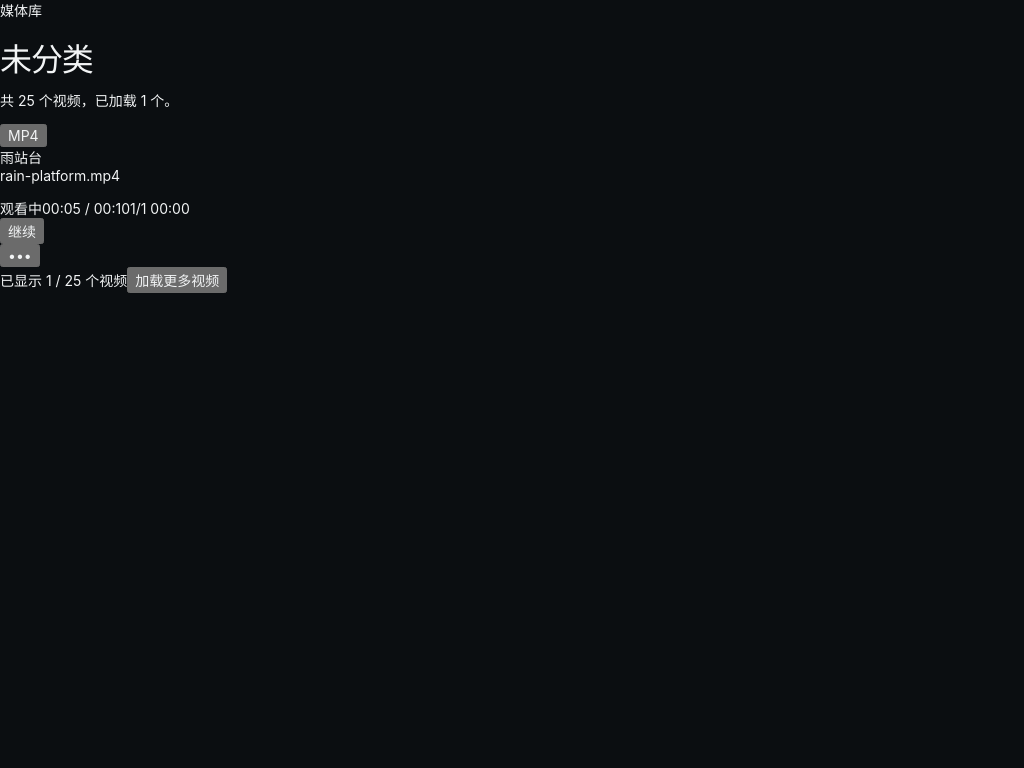
it: LibraryMediaListView › keeps classification menus bounded and reads only when the picker opens
The width and height of the screenshot is (1024, 768).
Click the button named "雨站台 的更多操作" at (20, 256), box [0,244,40,267]
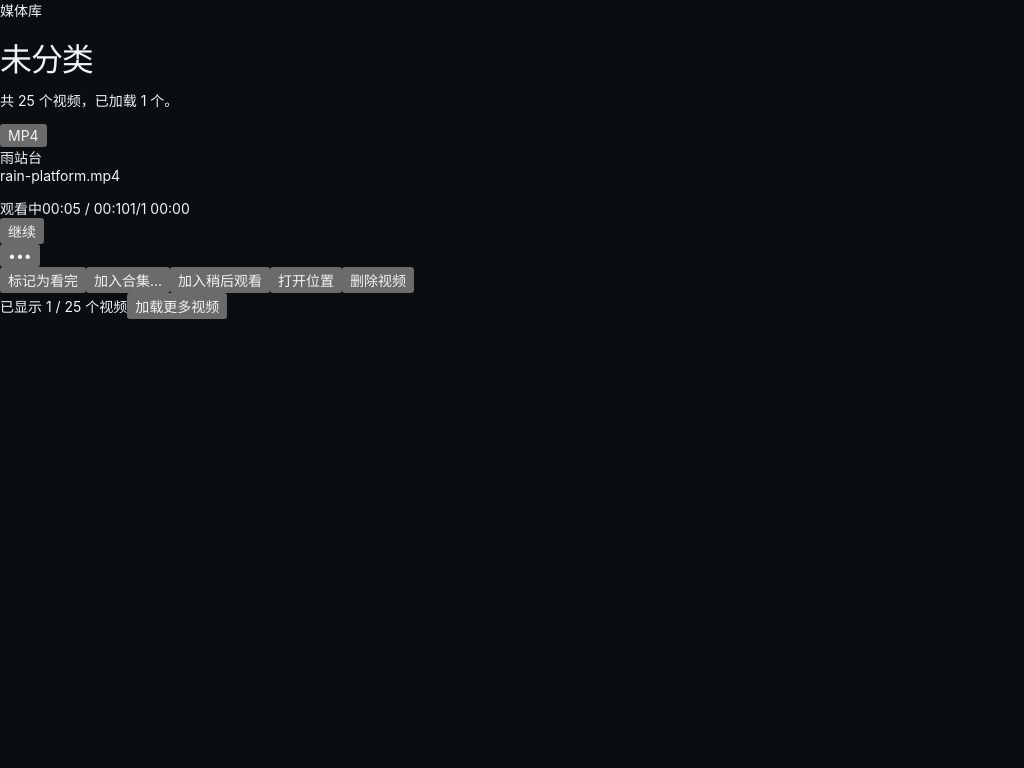
Click the menu item "加入合集…" at (128, 280), box [86,267,170,293]
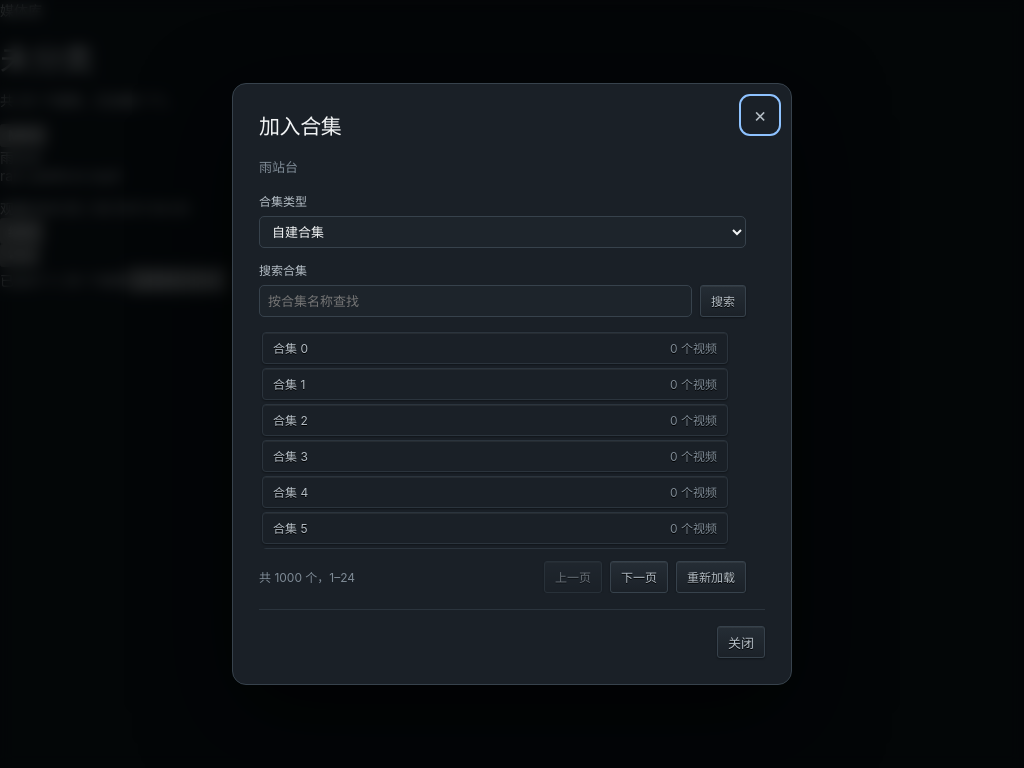
Expected: the button with aria-label "加入「合集 0」" is shown, [262,332,728,364]
Expected: the number of buttons named "加入「" is 24
